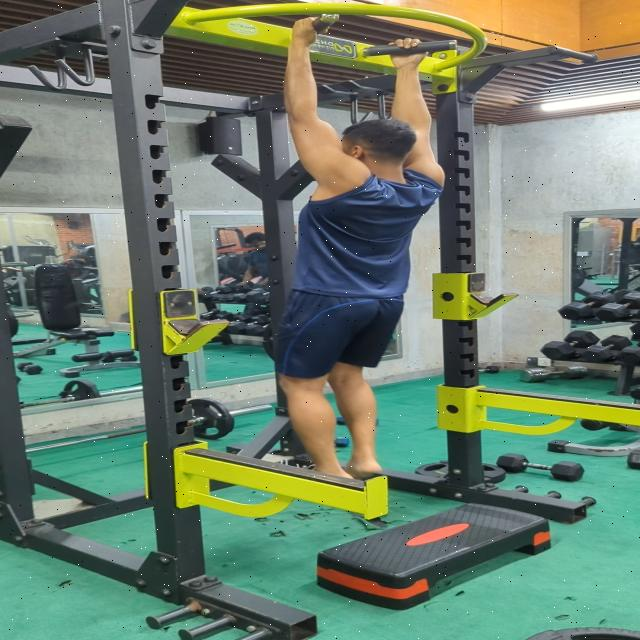Normal_PullUps: (258, 18, 452, 484)
